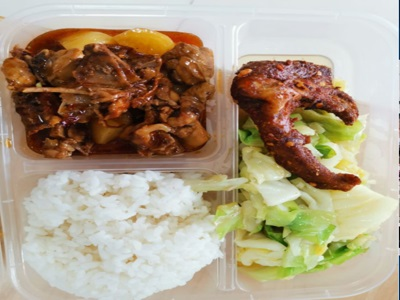cct: (240, 171, 373, 278)
jrtd: (15, 23, 205, 154)
rice: (22, 172, 196, 295)
yt: (240, 56, 351, 167)
